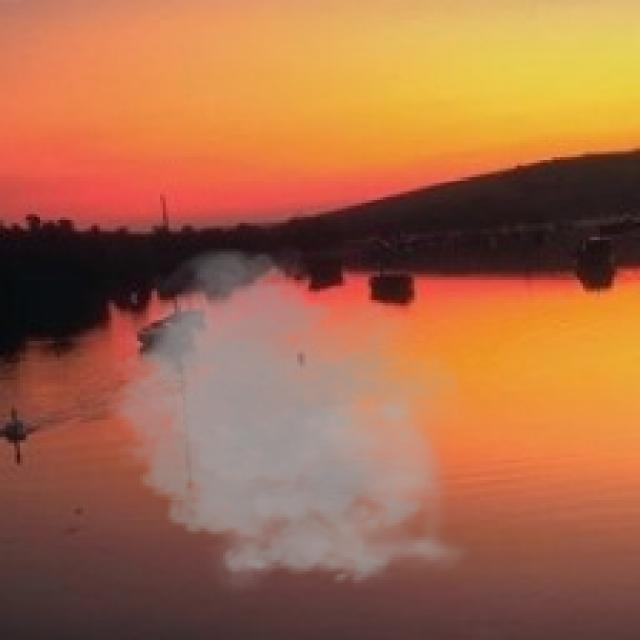Smoke: (94, 237, 480, 600)
